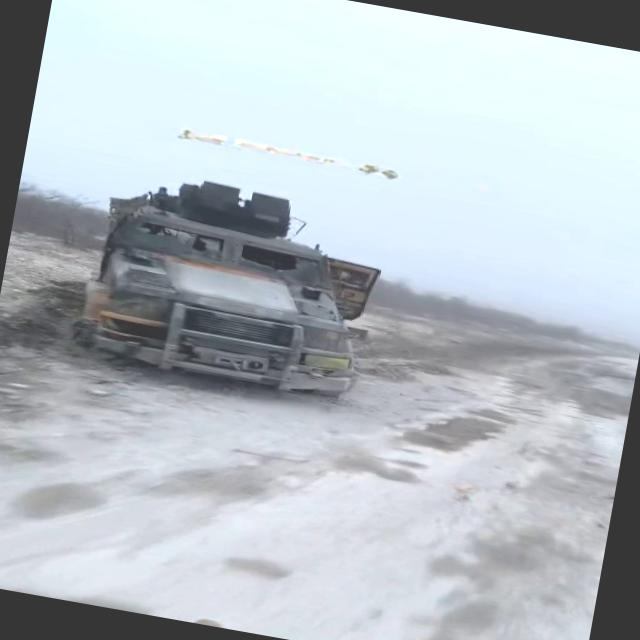Vehicle: (64, 155, 398, 401)
